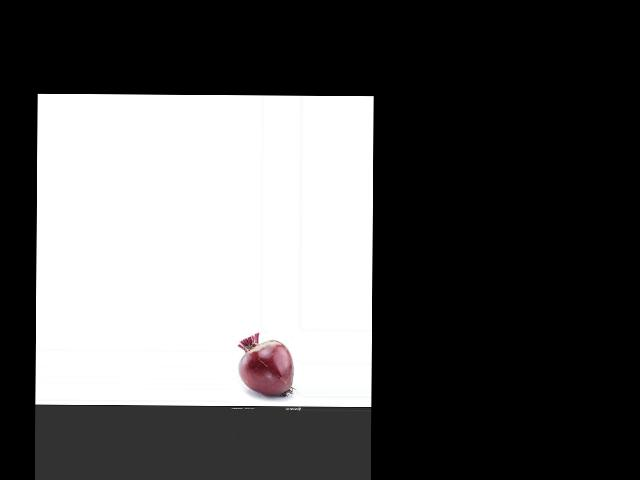beet: (237, 333, 293, 395)
